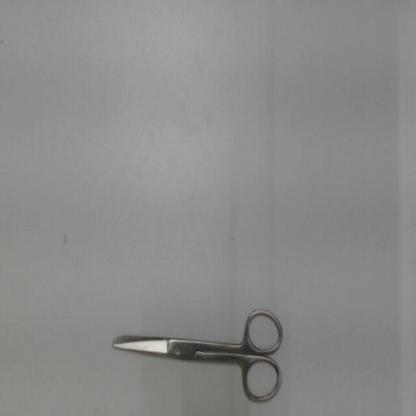Dressing Scissors: (104, 298, 291, 411)
